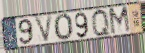9: (18, 18, 34, 46), (74, 11, 90, 39)
M: (107, 5, 132, 37)
O: (53, 13, 74, 42)
Q: (90, 8, 112, 38)
V: (33, 14, 55, 45)
